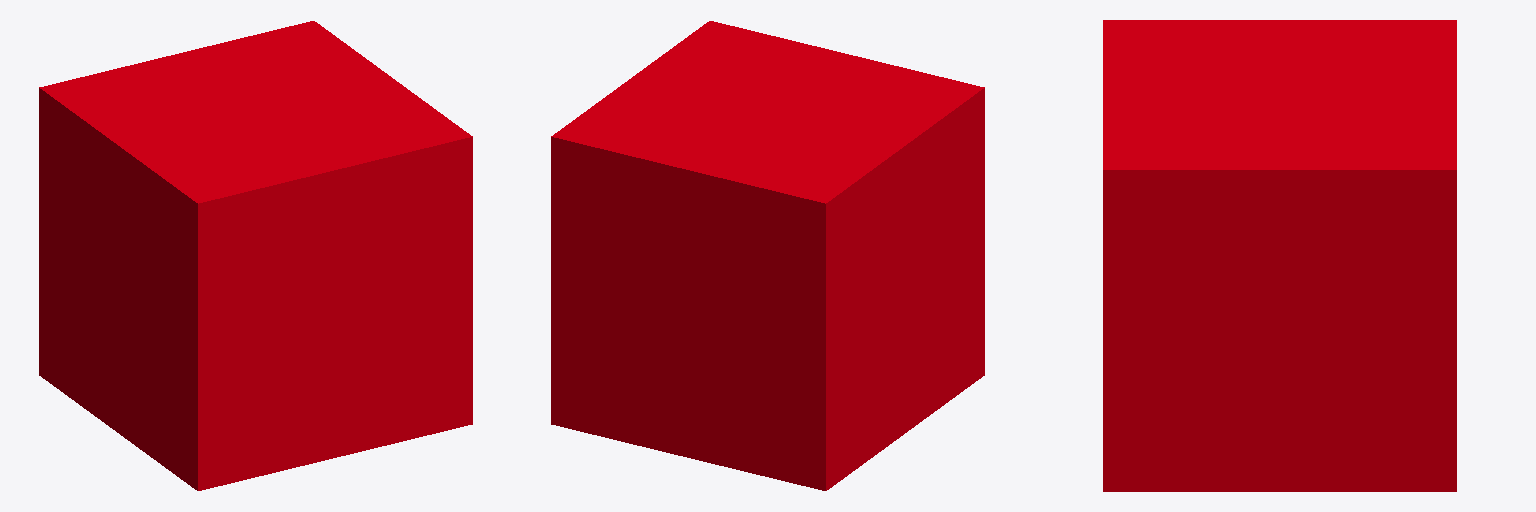
URDF robot description (redcube3):
<?xml version="1.0"?>
<robot name="redcube3">
	<link name="base">
	<inertial>
        	 <origin xyz="0 0 0" rpy="0 0 0"/>
        	 <mass value="0.5"/>
        	 <inertia ixx="0.000683333"  ixy="0"  ixz="0" iyy="0.000683333" iyz="0" izz="0.000683333" />
       </inertial>
		<visual>
			<origin xyz="0 0 0" rpy="0 0 0" />
			<geometry>
				<box size="0.02 0.02 0.02" />
			</geometry>
			<material>
				<color rgba="0.9 0 0.1 1" />
			</material>
		</visual>
	<collision>
            <origin xyz="0 0 0" rpy="0 0 0" />
            <geometry>
				<box size="0.02 0.02 0.02" />
            </geometry>
        </collision>
	</link>
</robot>

--- Facts derived from the render (not from the file) ---
Views: 3 orthographic renders of the robot side by side, from view 1: azimuth 30°, elevation 25°; view 2: azimuth 150°, elevation 25°; view 3: azimuth 270°, elevation 25°.
Model redcube3 with 1 links and 0 joints (none), rooted at base, posed every joint at zero.
Links seen in each view (by area): view 1: base; view 2: base; view 3: base.
Link boxes in pixels (x1=…): base: x1=39, y1=21, x2=472, y2=490; base: x1=551, y1=21, x2=984, y2=490; base: x1=1103, y1=20, x2=1456, y2=491.
Bounding box of the posed robot: 0.02 × 0.02 × 0.02 m (x, y, z).
Geometry: primitives only (box / cylinder / sphere), no mesh files.
